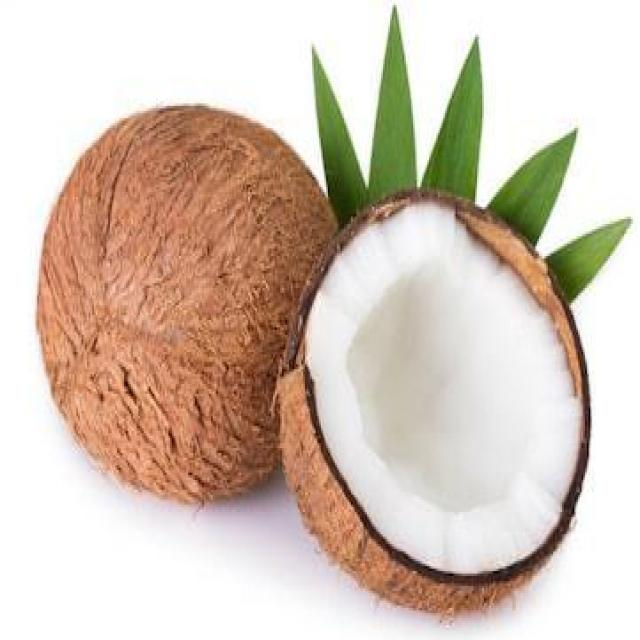coconut: (301, 203, 587, 616), (35, 98, 282, 516)
